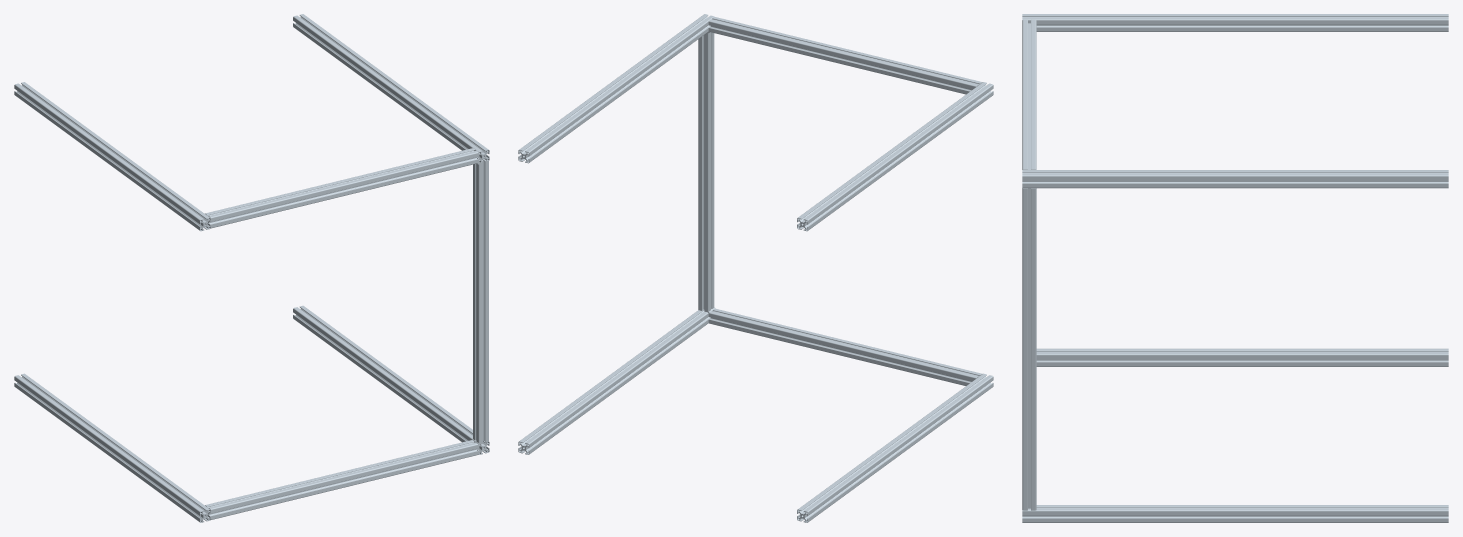
Rendered from extrusion_frame.obj.
3 views of the same model, side by side, from view 1: azimuth 30°, elevation 25°; view 2: azimuth 150°, elevation 25°; view 3: azimuth 270°, elevation 25° (orthographic). The views are drawn at different scales.
Visible parts, largest first — view 1: mesh839, mesh722, mesh223, mesh608, mesh203, mesh588, mesh98, mesh507, mesh353, mesh566, mesh225, mesh245 (+14 smaller); view 2: mesh670, mesh274, mesh508, mesh63, mesh681, mesh722, mesh223, mesh608, mesh203, mesh588, mesh430, mesh98 (+18 smaller); view 3: mesh150, mesh170, mesh311, mesh331, mesh65, mesh101, mesh509, mesh529, mesh276, mesh298, mesh333, mesh286 (+22 smaller).
Boxes of the visible parts, x1,y1,x2,y2 form: mesh839: [200, 150, 489, 522]; mesh722: [476, 164, 478, 442]; mesh223: [14, 377, 199, 515]; mesh608: [14, 91, 199, 229]; mesh203: [14, 383, 199, 521]; mesh588: [14, 85, 199, 223]; mesh98: [293, 309, 471, 440]; mesh507: [293, 17, 471, 148]; mesh353: [294, 15, 482, 151]; mesh566: [21, 82, 209, 218]; mesh225: [15, 375, 203, 511]; mesh245: [21, 373, 209, 510]; mesh670: [704, 28, 975, 380]; mesh274: [698, 37, 701, 310]; mesh508: [708, 22, 975, 89]; mesh63: [708, 320, 969, 385]; mesh681: [707, 33, 709, 311]; mesh722: [712, 33, 714, 308]; mesh223: [808, 377, 993, 515]; mesh608: [808, 91, 993, 229]; mesh203: [808, 383, 993, 521]; mesh588: [808, 85, 993, 223]; mesh430: [529, 28, 708, 161]; mesh98: [529, 314, 708, 447]; mesh150: [1022, 518, 1448, 522]; mesh170: [1022, 511, 1448, 515]; mesh311: [1022, 183, 1448, 187]; mesh331: [1022, 176, 1448, 180]; mesh65: [1036, 362, 1448, 366]; mesh101: [1036, 355, 1448, 359]; mesh509: [1036, 20, 1448, 24]; mesh529: [1036, 27, 1448, 31]; mesh276: [1031, 188, 1035, 510]; mesh298: [1023, 188, 1027, 510]; mesh333: [1022, 173, 1448, 175]; mesh286: [1028, 188, 1030, 508].
Bounding box in the file's own units: 1.08 × 1.08 × 1.2.
